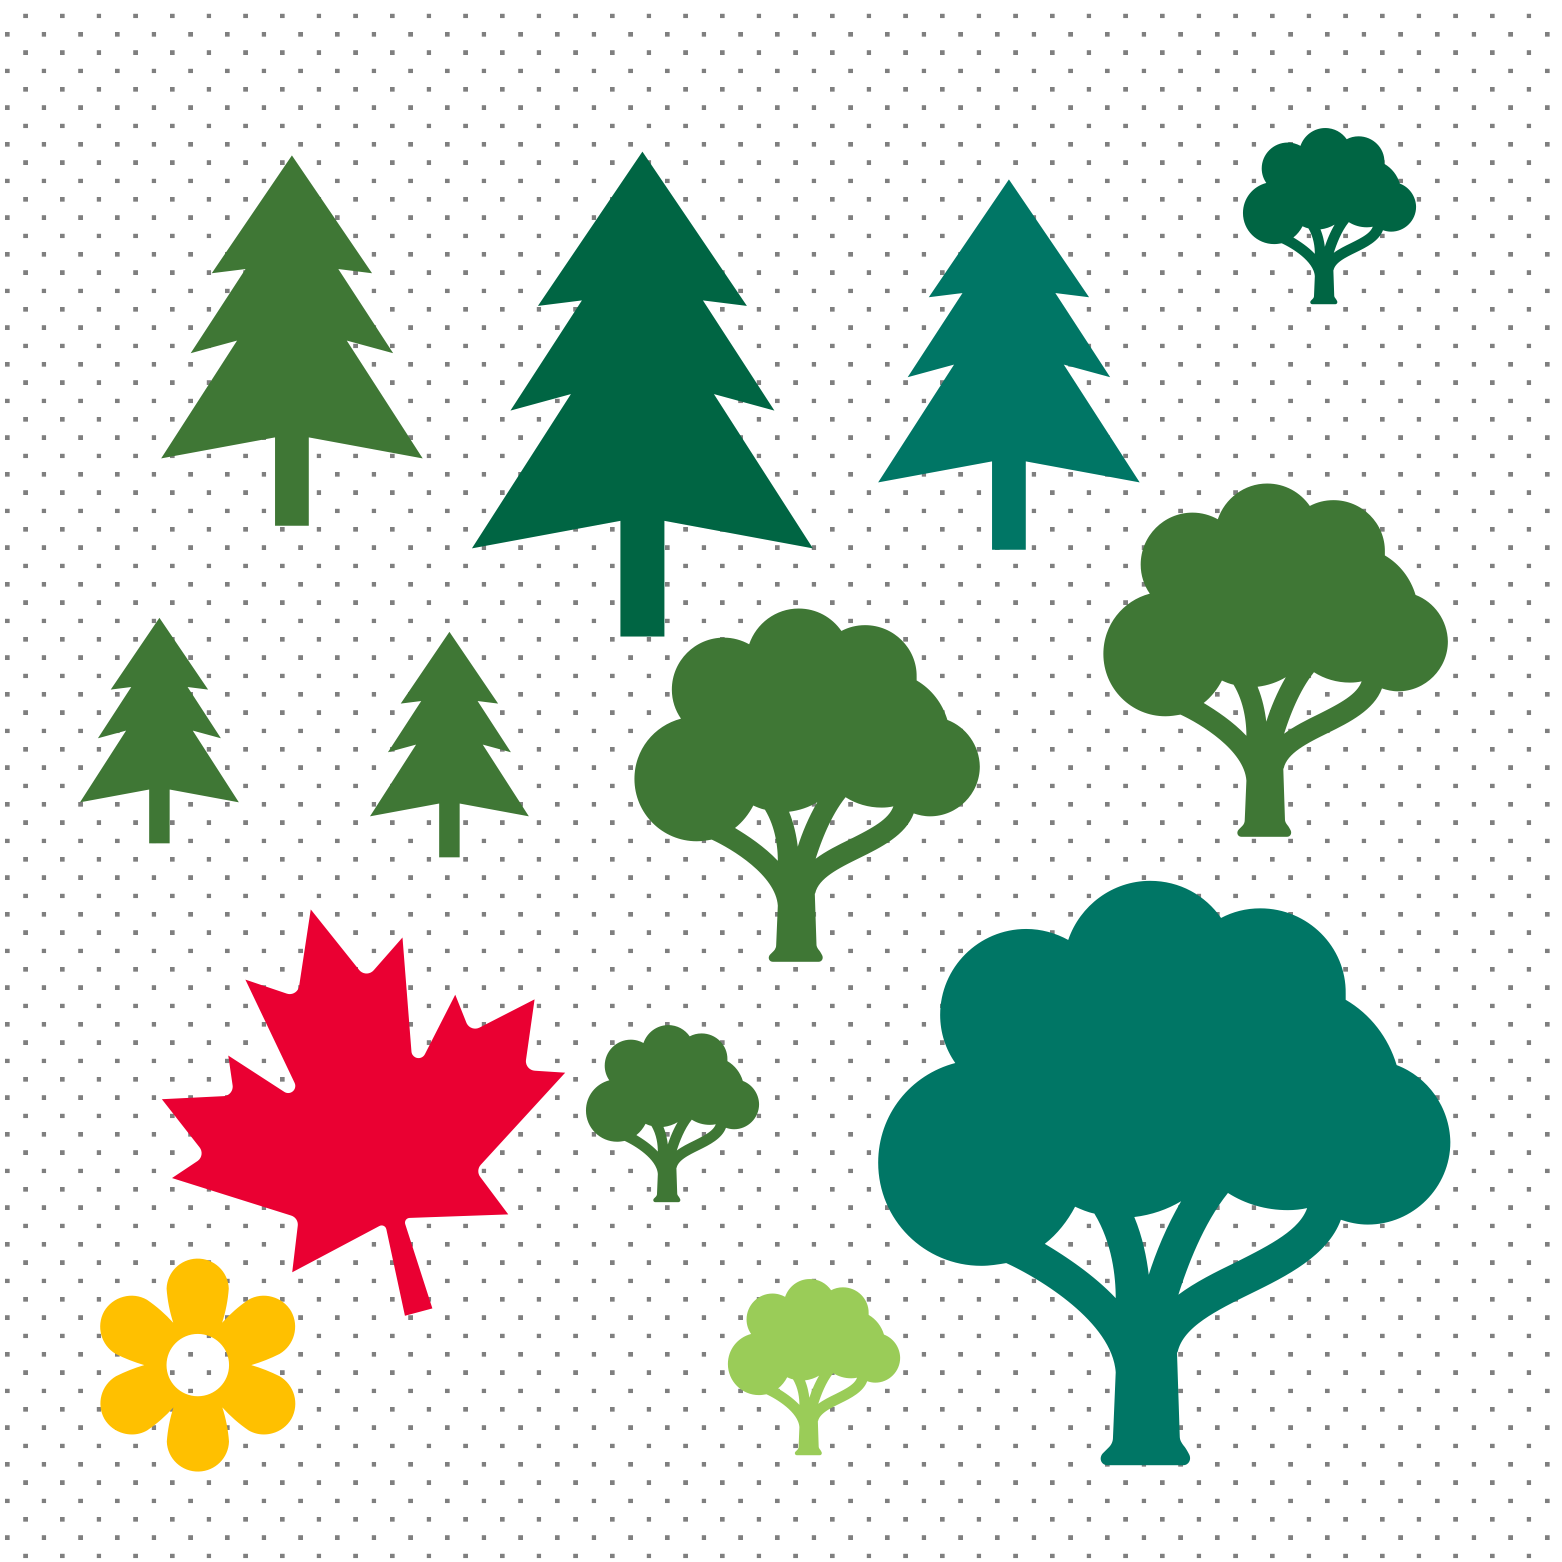flower: (94, 1252, 300, 1478)
leaf: (147, 900, 575, 1325)
tree: (874, 877, 1460, 1475), (463, 142, 820, 644), (619, 604, 984, 971), (1091, 476, 1455, 845), (863, 170, 1144, 555), (152, 147, 428, 534), (360, 618, 534, 865), (73, 606, 243, 855), (715, 1272, 908, 1460), (1237, 116, 1423, 312), (582, 1020, 771, 1207)
